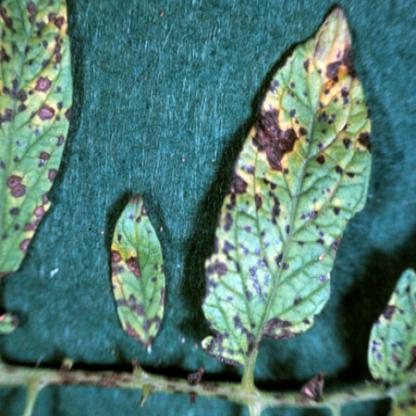tomato septoria leaf spot: (187, 6, 380, 363), (1, 3, 85, 326), (110, 182, 165, 362), (370, 265, 415, 403)
